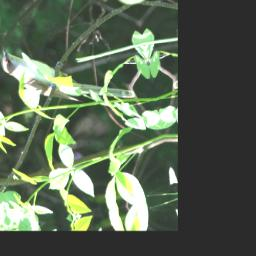Cuckoo: (0, 21, 135, 123)
